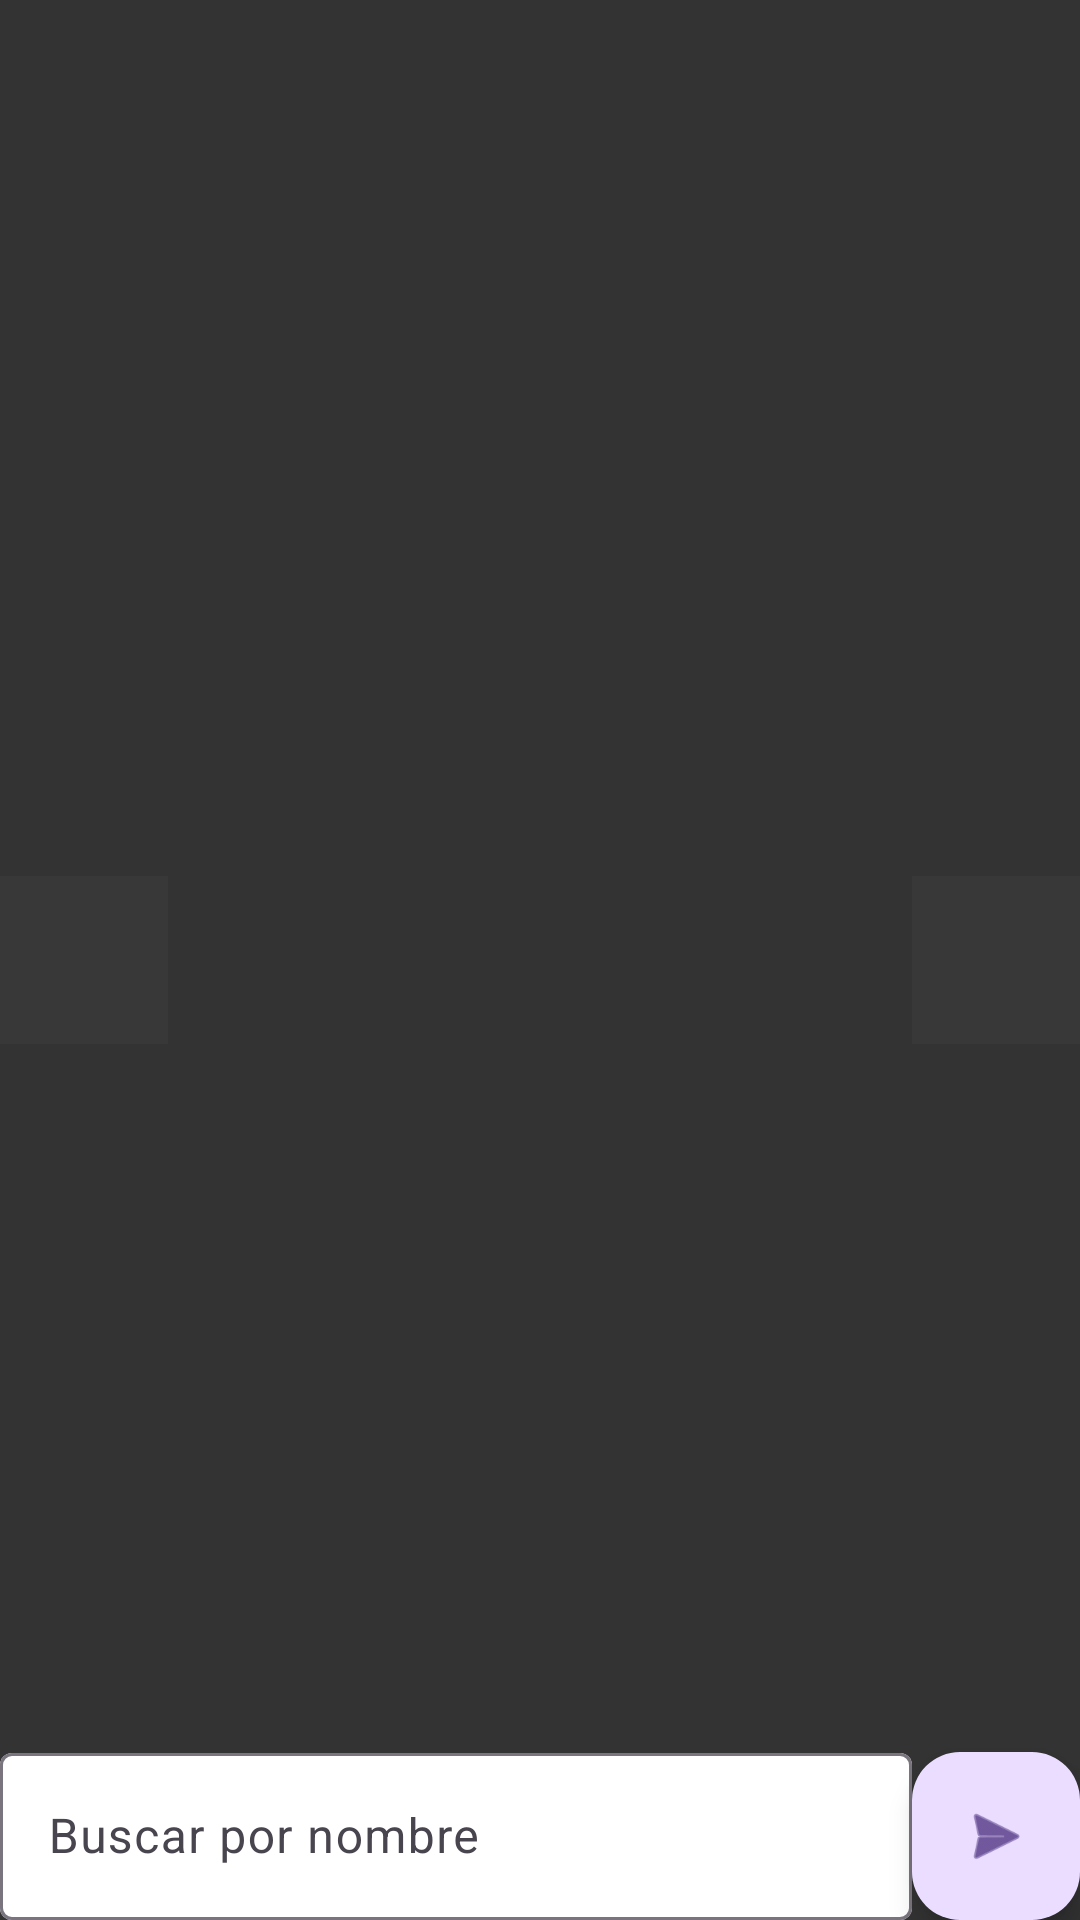

Screen size 1080*1920. Icon name, then its center in pixels as point (x, y):
send: point (996, 1836)
